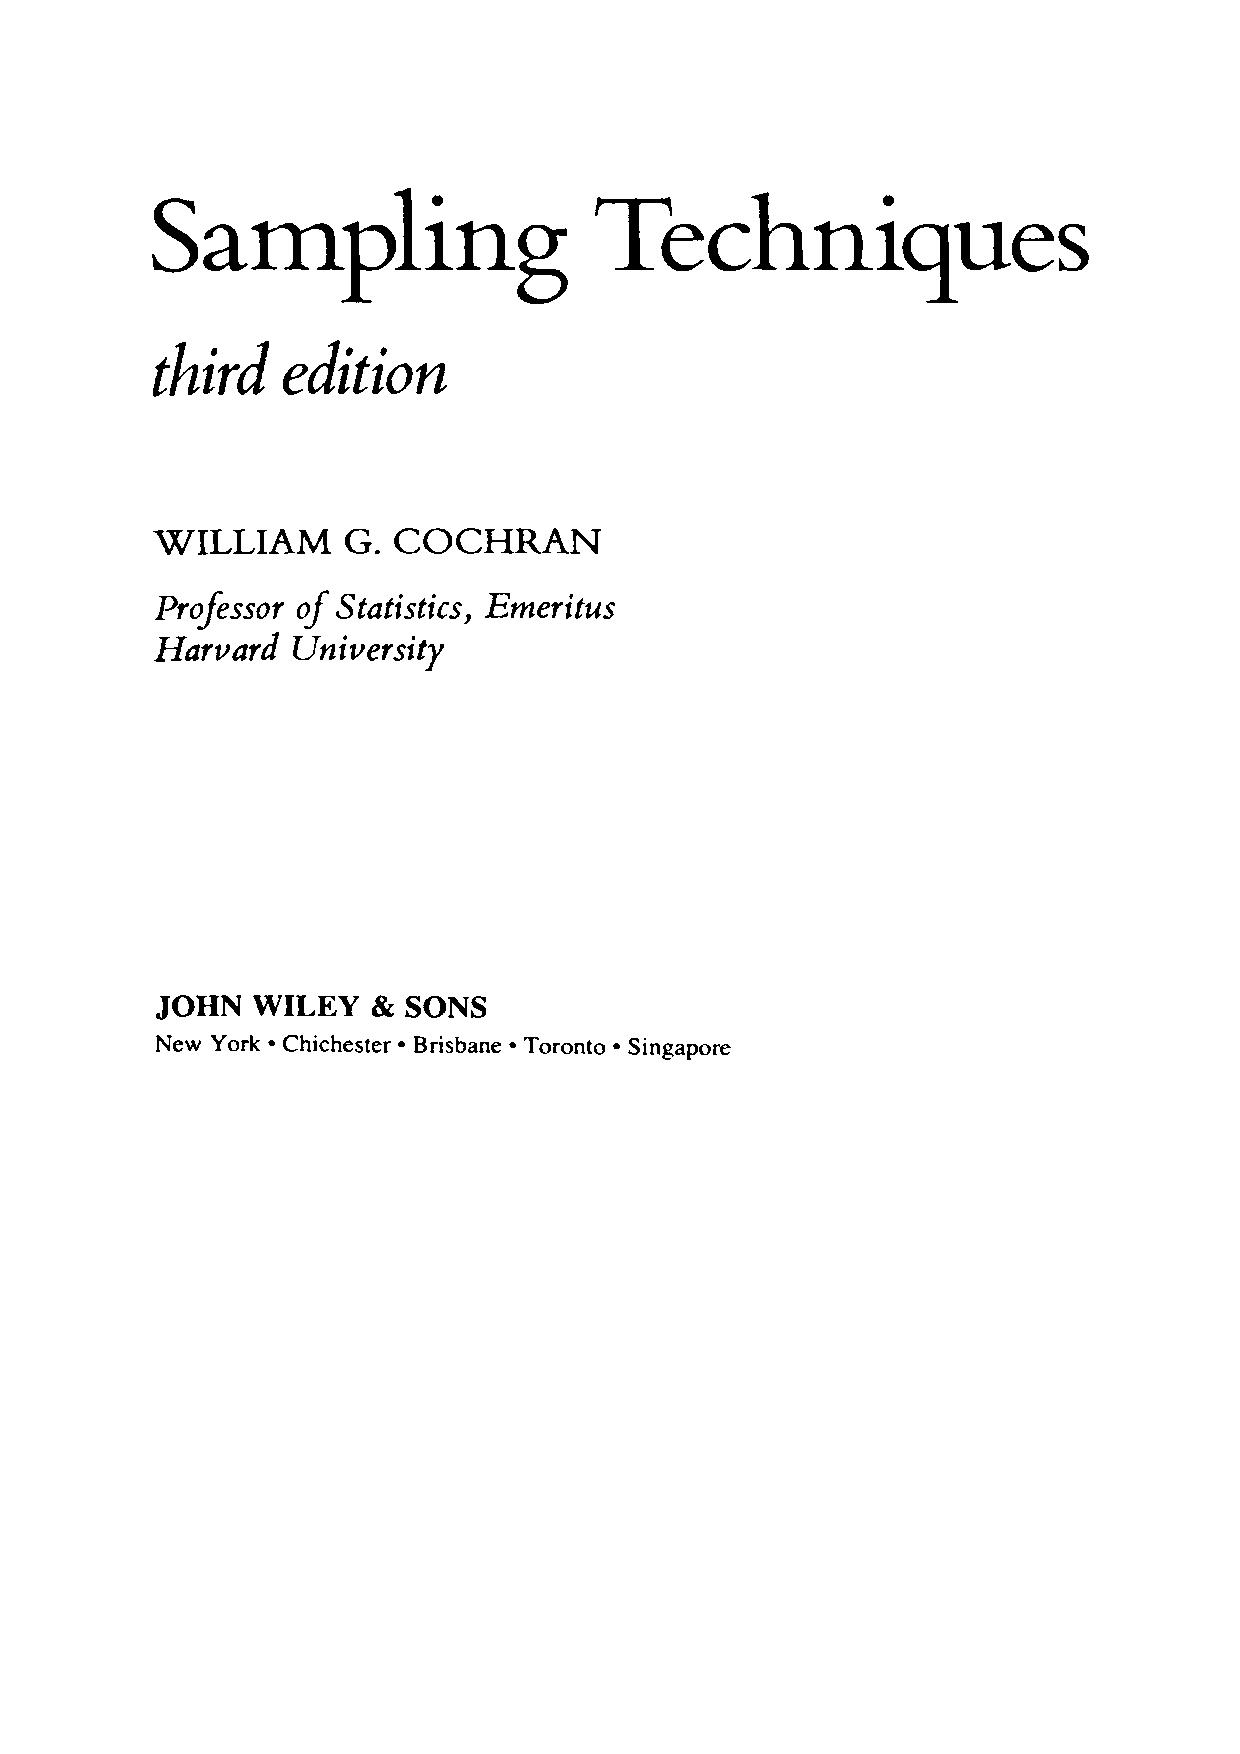author: (148, 523, 604, 560)
title: (145, 183, 1091, 403)
